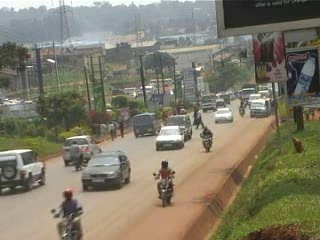Car: (79, 145, 132, 192), (0, 145, 48, 191), (61, 134, 104, 168), (155, 124, 187, 153), (165, 114, 196, 140), (212, 106, 234, 125), (215, 96, 228, 107)
Motorcycle: (46, 188, 93, 238), (151, 160, 180, 207), (66, 140, 88, 172), (198, 126, 218, 153), (159, 107, 170, 127), (236, 101, 247, 119), (174, 103, 189, 115)
